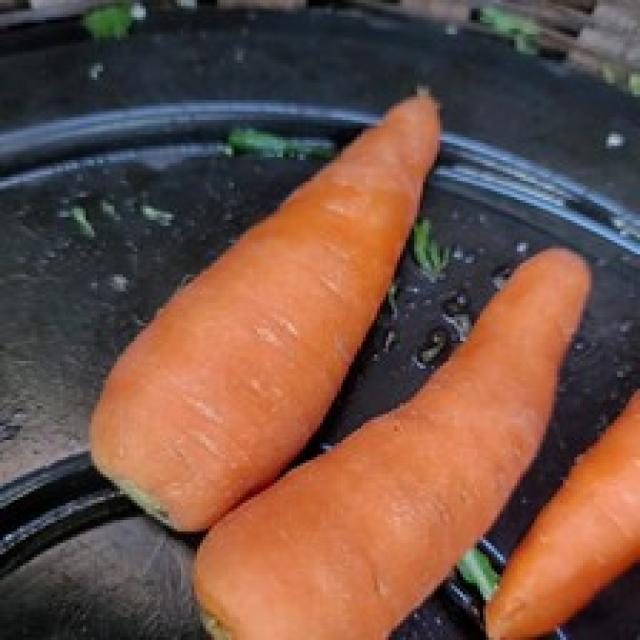Fresh_Carrot: (85, 97, 440, 539), (192, 251, 590, 640), (490, 388, 640, 640)
